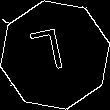L_S: (34, 27, 76, 83)
